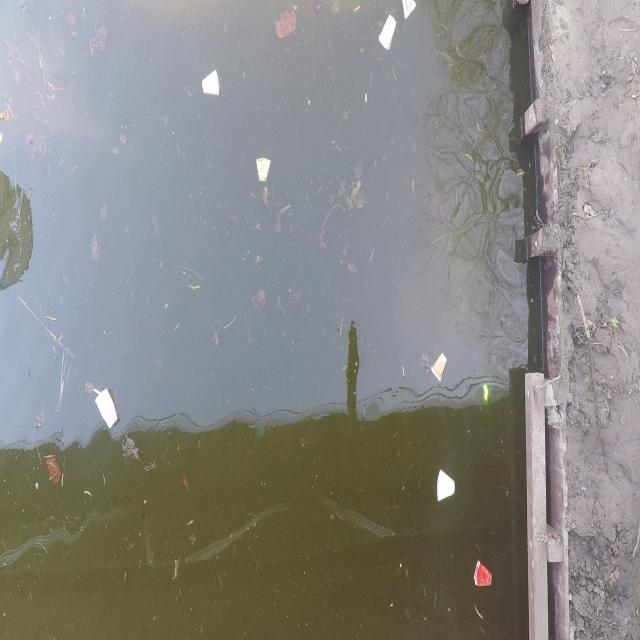Non plastique: (91, 382, 120, 435), (432, 461, 458, 511), (197, 59, 225, 103), (372, 14, 400, 54), (470, 558, 496, 596), (253, 149, 276, 187), (427, 351, 451, 381)
